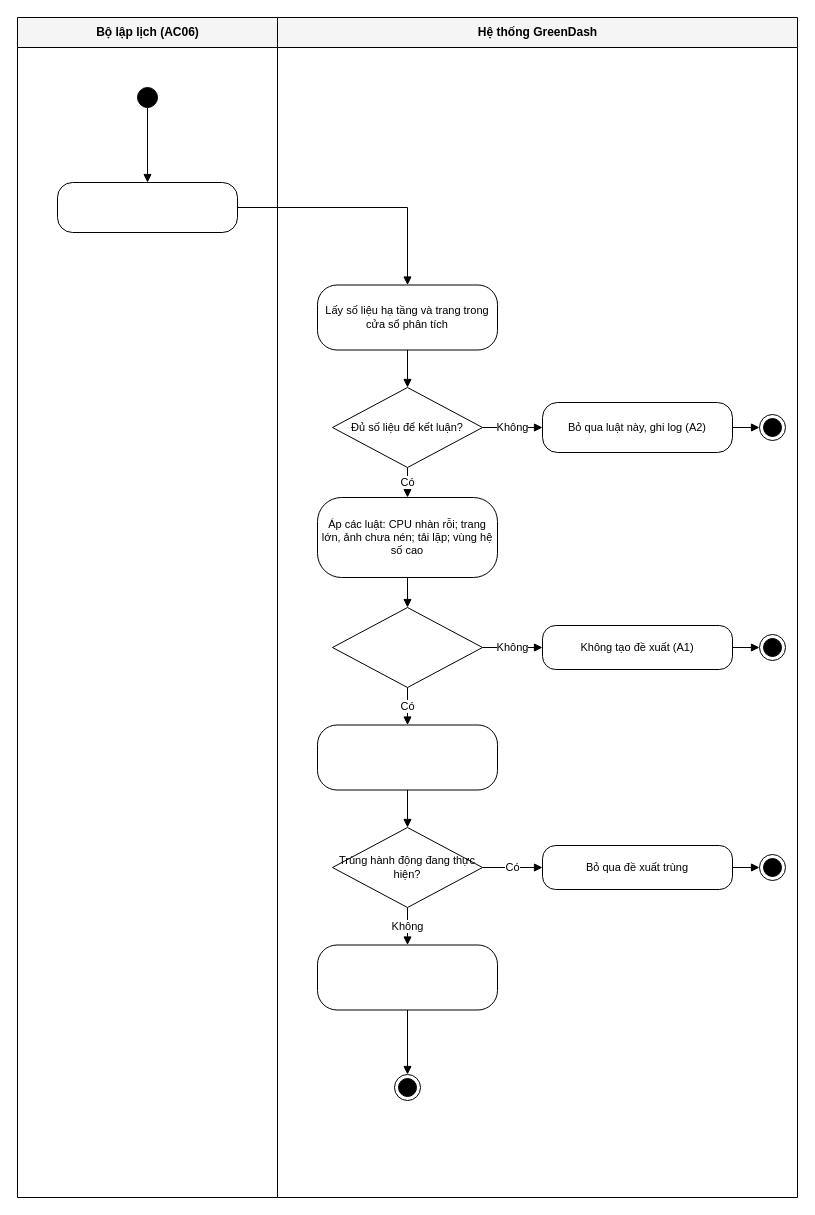
The diagram is 815 pixels wide and 1215 high, and some of its shapes have lost their labels. The centre of each missing label's shape, as x and y in pixels:
"Kích hoạt phân tích định kỳ (ví dụ hằng ngày)" goes at (x=147, y=207).
"Lưu đề xuất, trạng thái Đề xuất, kèm mức giảm ước tính" goes at (x=407, y=977).
"Phát hiện lãng phí?" goes at (x=407, y=647).
"Ước tính mức giảm (kWh, gCO2e), gắn nhãn Ước lượng (BR20)" goes at (x=407, y=757).
